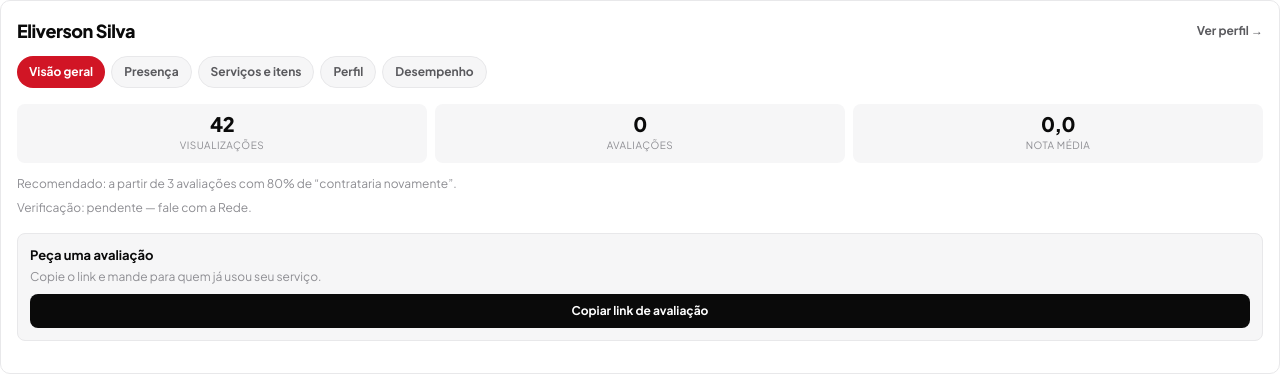
PainelClient — navegação por módulos › troca para Serviços e itens e some as métricas
Click the button "Serviços e itens" at (256, 72), box 198,56 -> 314,88
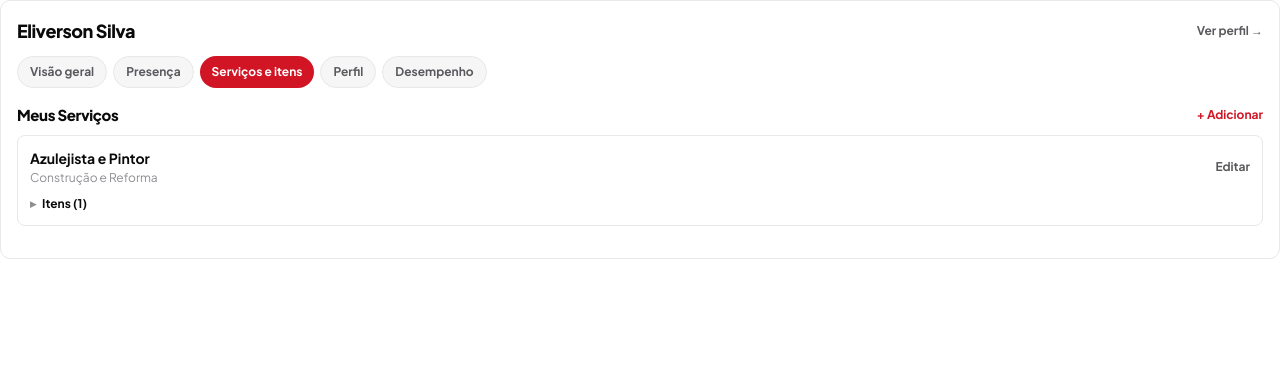
Expected: the text "Azulejista e Pintor" is shown, 30,148 -> 158,168
Expected: the text "Visualizações" is gone
